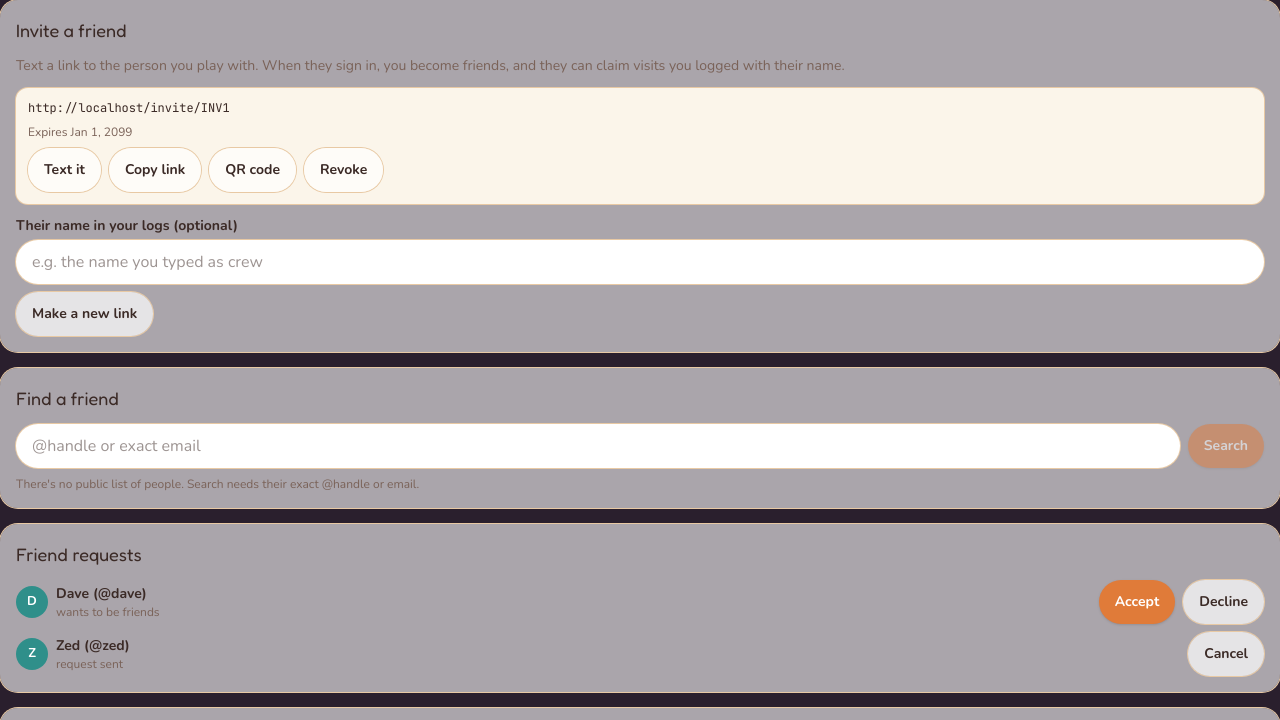
FriendsPanel › reuses an active invite and can copy and revoke it
The width and height of the screenshot is (1280, 720).
Expected: the text with test id "invite-url" reads "http://localhost/invite/INV1", [28, 100, 230, 116]
Click the button with test id "invite-copy" at [155, 170], box [109, 148, 201, 192]
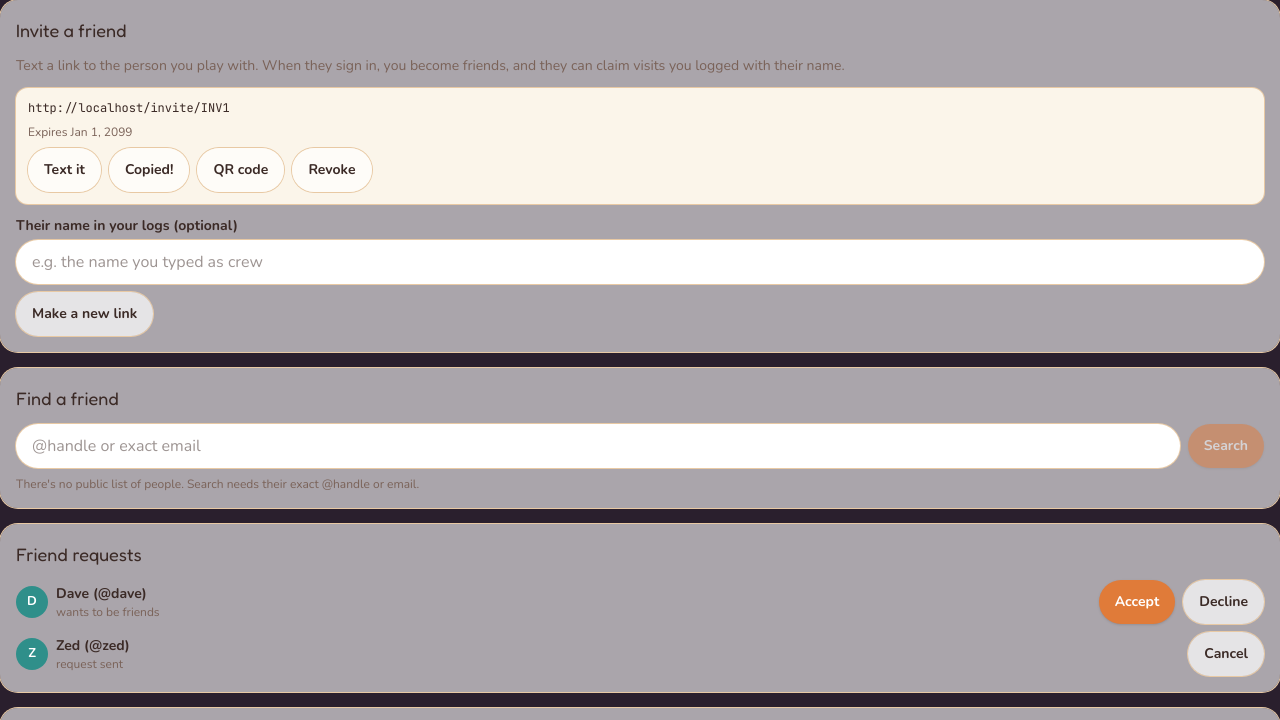
Result: the button "Copied!" is shown at [109, 148, 189, 192]
Click the button with test id "invite-revoke" at [332, 170], box [292, 148, 372, 192]
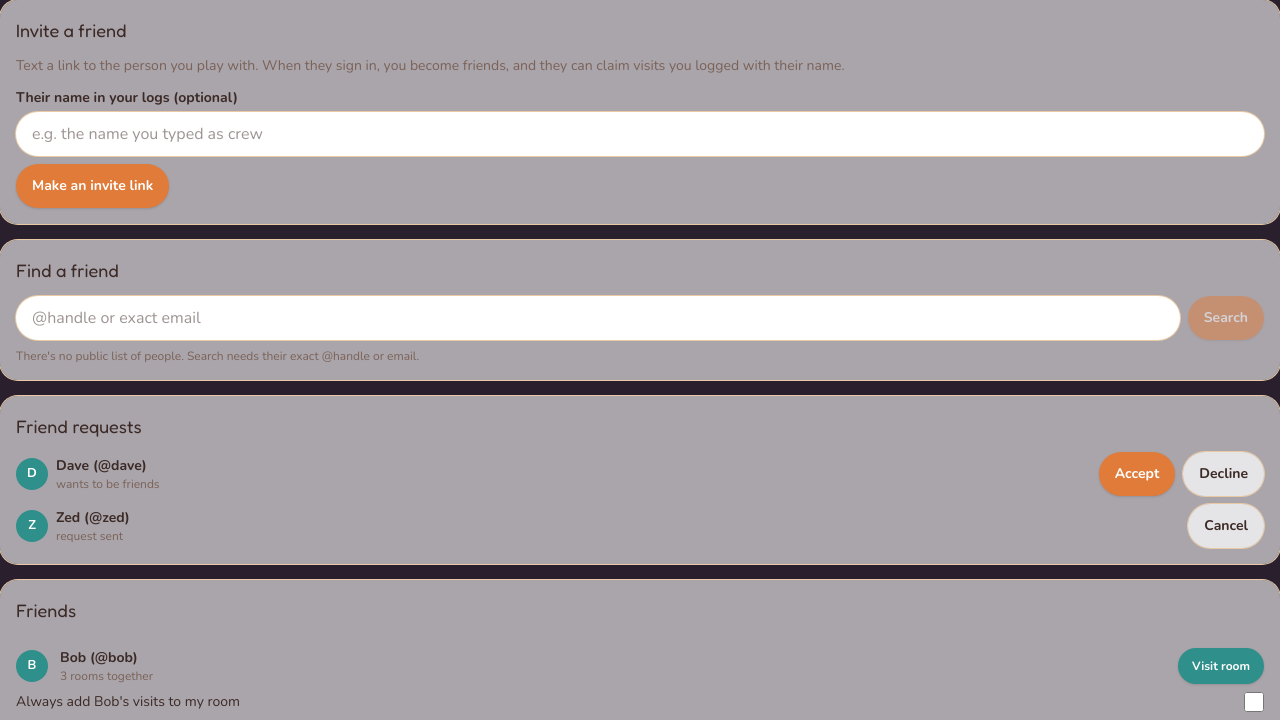
Result: the element with test id "invite-link" is gone
Result: the button with test id "invite-create" reads "Make an invite link" at [16, 164, 169, 208]
